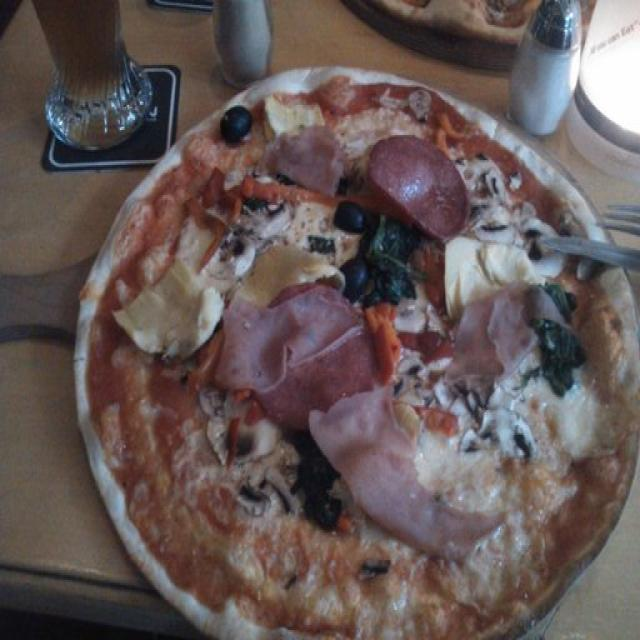Basil: (534, 317, 588, 392), (367, 216, 415, 292), (546, 281, 586, 310), (524, 350, 550, 372)
Ham: (320, 388, 510, 571), (227, 284, 381, 426), (370, 136, 464, 243), (280, 130, 342, 192)
Mushrooms: (199, 405, 278, 469), (226, 455, 300, 521), (386, 347, 448, 408), (464, 413, 530, 456), (525, 210, 565, 276), (460, 154, 508, 200), (210, 230, 248, 286), (398, 294, 447, 332), (242, 205, 290, 239), (470, 212, 506, 243), (203, 391, 218, 413)
Olives: (330, 192, 362, 232), (218, 108, 256, 140)
Pizza: (75, 70, 640, 635)
